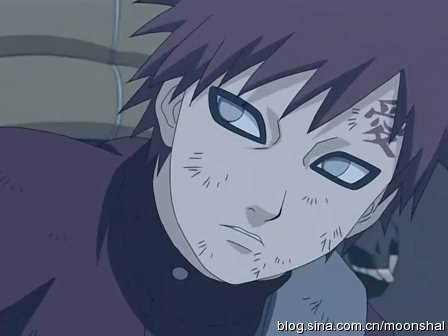gaara: (153, 47, 415, 286)
